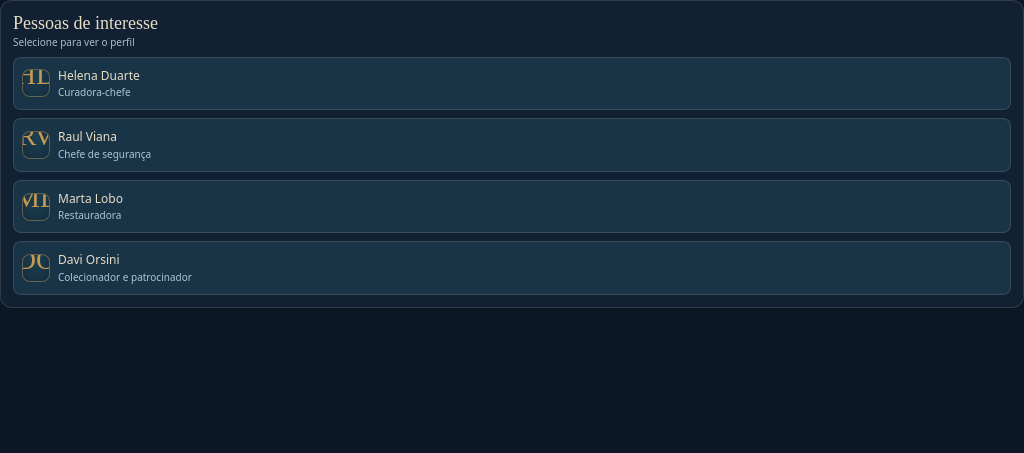
Scenario: SuspectSection › seleciona um personagem e abre o perfil dentro da seção de personagens
The image size is (1024, 453).
Click the button with class "suspect-tile" that starts with "Retrato": (90, 198) [13,180,1011,234]
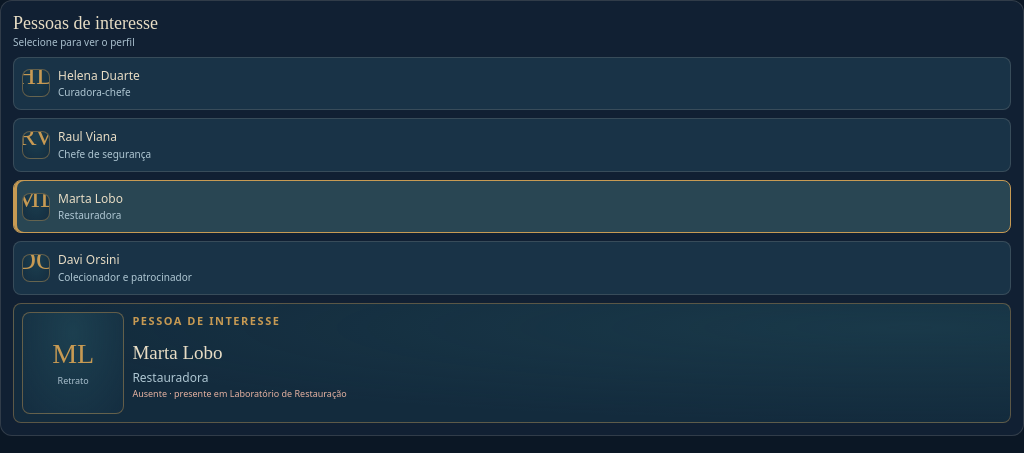
Now the element with class "suspect-profile" shows "Marta Lobo", box [132,342,223,363]
Click the button with class "suspect-tile" that starts with "Retrato": (89, 260) [13,242,1011,295]
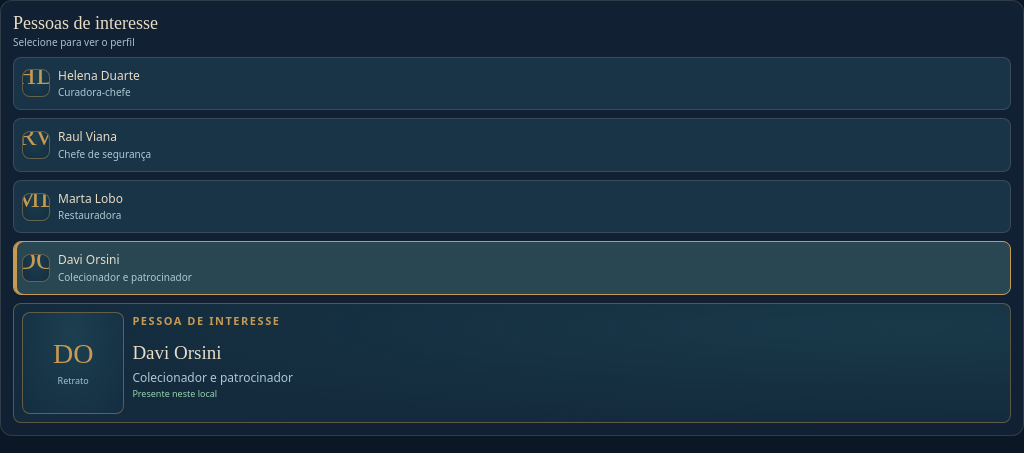
Now the element with class "suspect-profile" shows "Davi Orsini", box [132,342,222,363]
